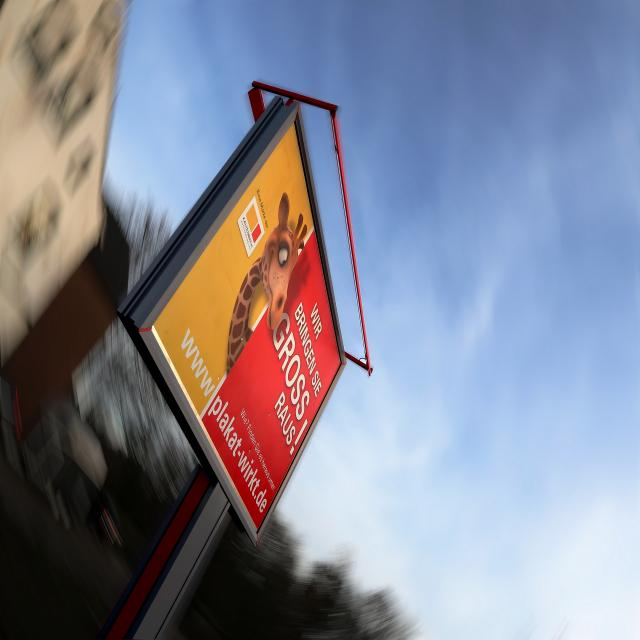Werbetafel frei: (108, 88, 356, 545)
